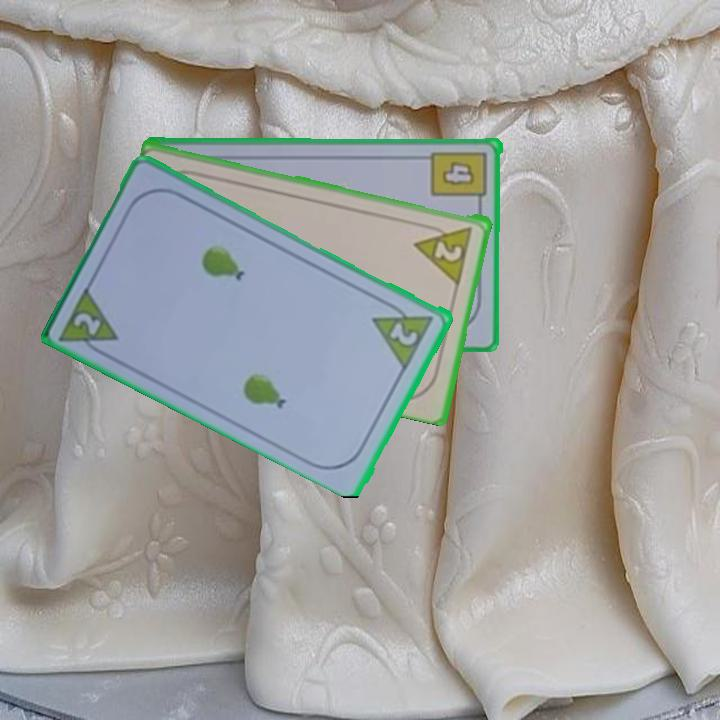2p: (411, 221, 476, 285), (386, 318, 422, 349), (70, 308, 105, 338)
4b: (429, 148, 490, 210)
